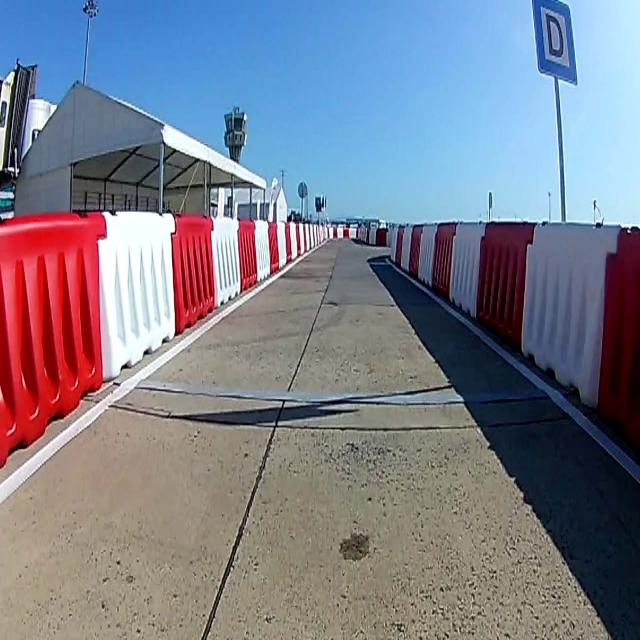durak: (532, 2, 579, 82)
